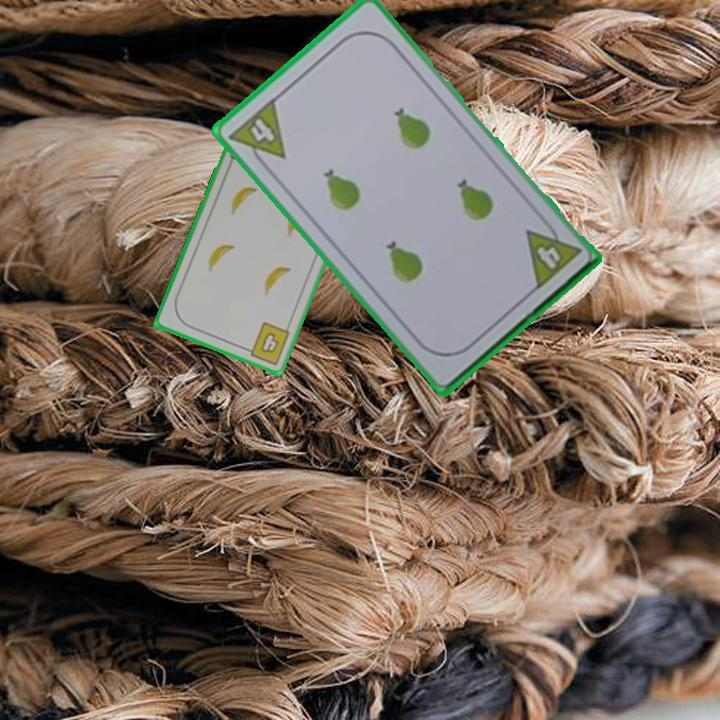4b: (240, 318, 293, 368)
4p: (225, 94, 288, 175), (521, 214, 584, 293)
